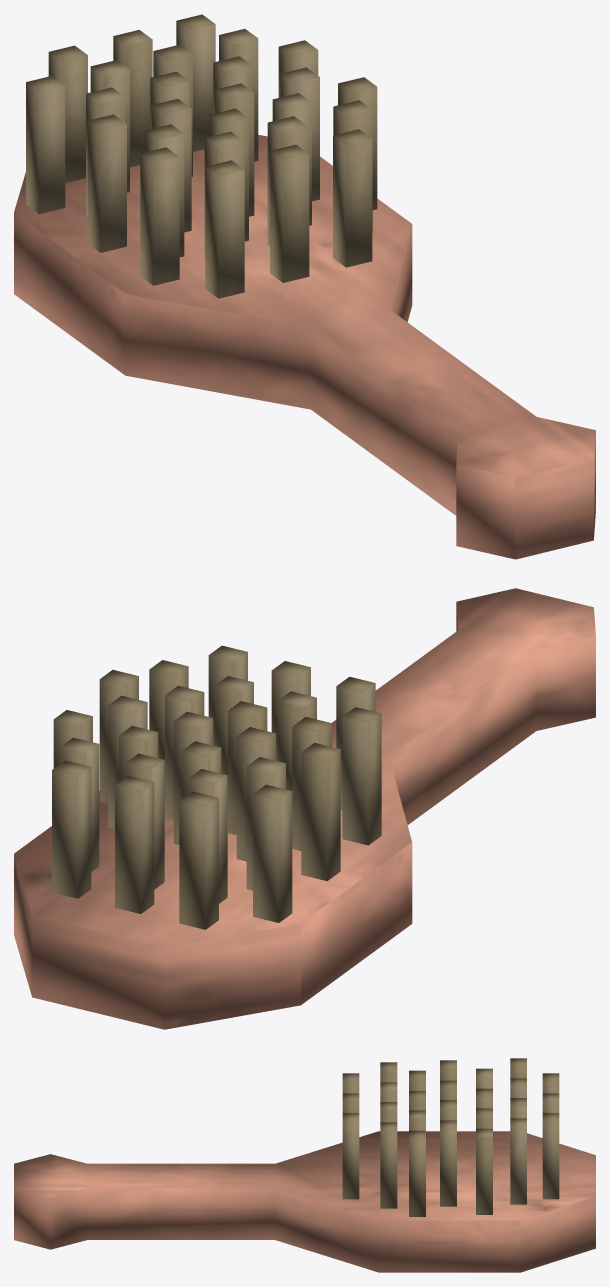
File: Hairbrush_01.fbx
The picture shows the model from 3 angles, top to bottom: view 1: azimuth 30°, elevation 25°; view 2: azimuth 150°, elevation 25°; view 3: azimuth 270°, elevation 25°; orthographic projection. The views are drawn at different scales.
Visible parts, largest first — view 1: Hairbrush_01; view 2: Hairbrush_01; view 3: Hairbrush_01.
Part boxes in pixels (x1,y1,x2,y2): Hairbrush_01: (14, 14, 595, 559); Hairbrush_01: (14, 588, 595, 1029); Hairbrush_01: (14, 1058, 595, 1272).
Size of the model in its own units: 22.69 by 15.44 by 62.52.
